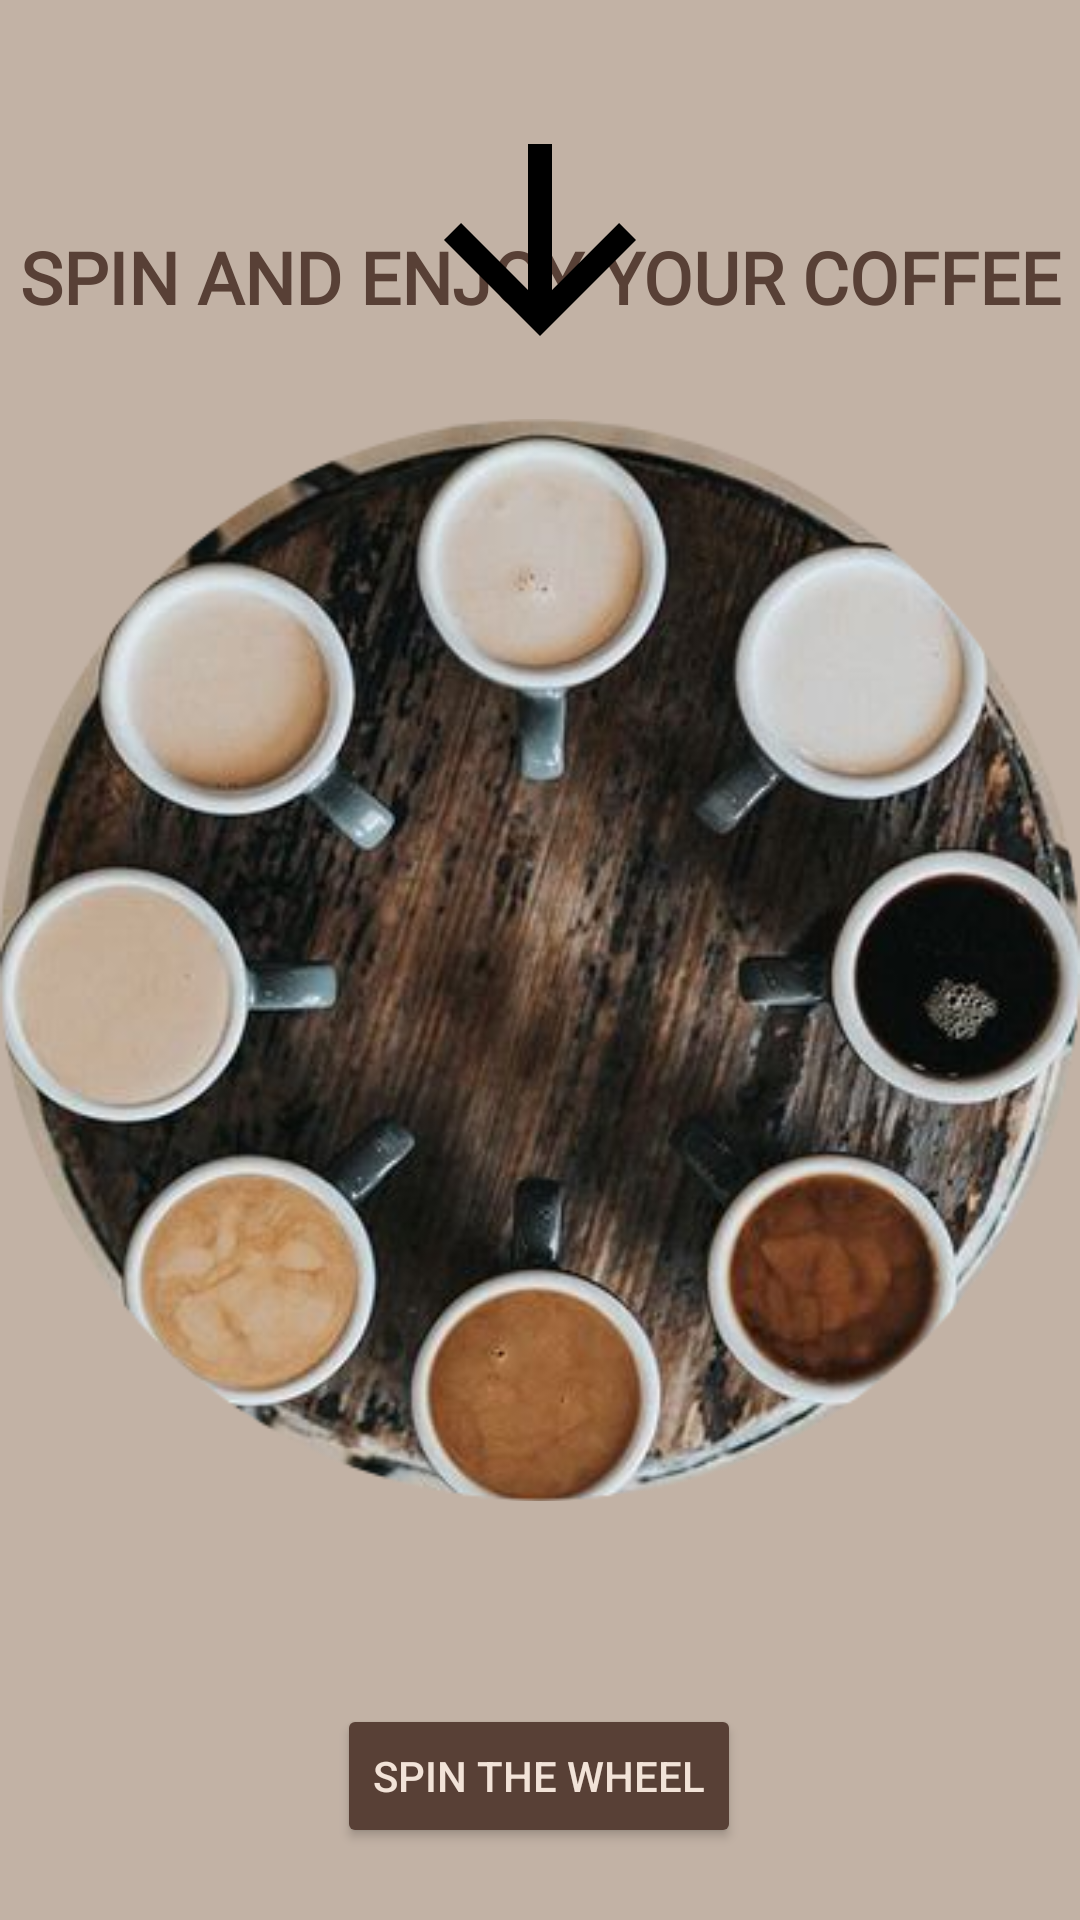

Icons on this 1080x1920 Android screen, each with the point to tap as [x,y]:
arrow: [526,240]
